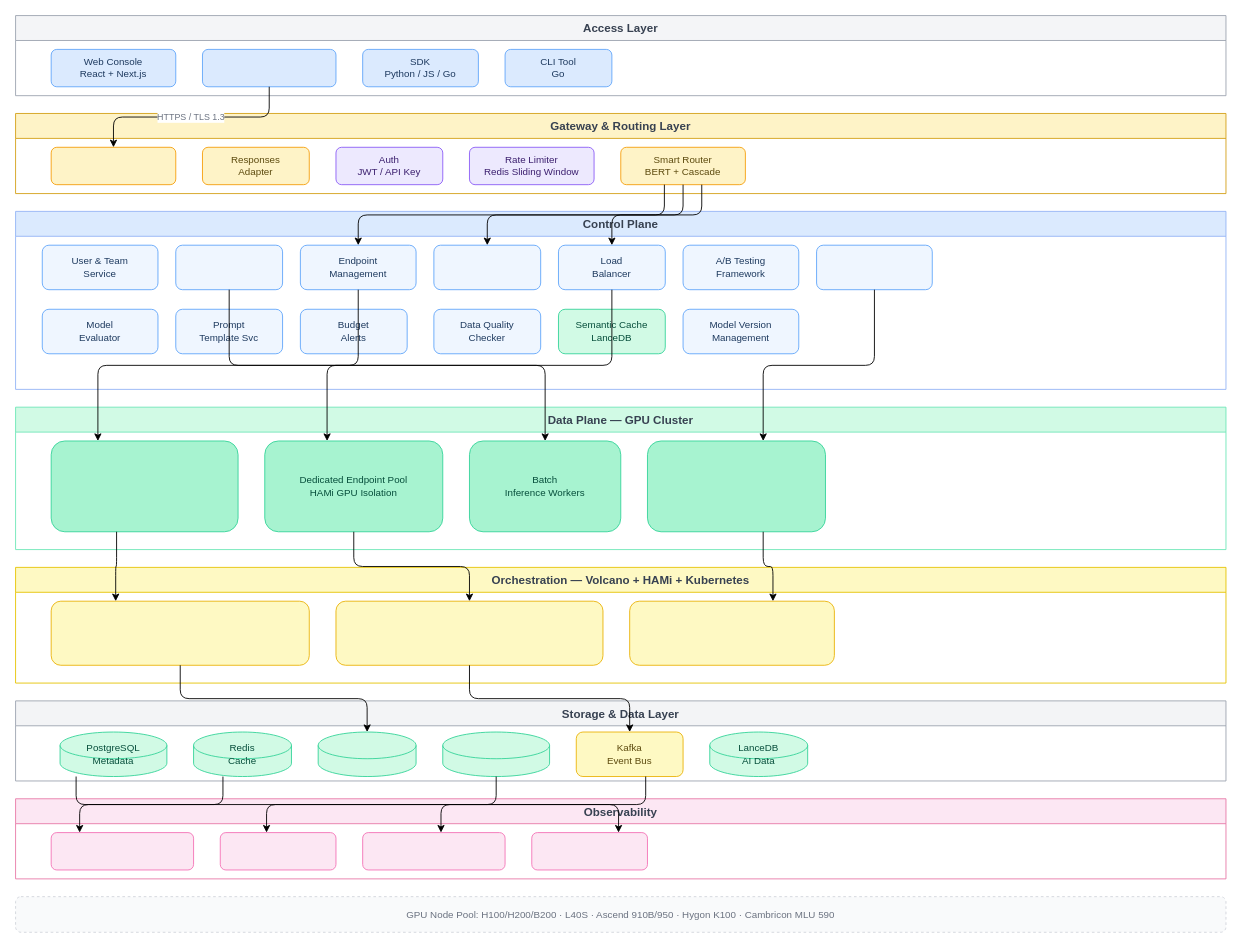
Some shapes in this 1242 by 948 pixel diagram are drawn without their labels. The shapes that lost their labels are listed below. From the top down, each one's centre as x and y in pixels, then its label:
(x=269, y=68): Responses API + Chat Completions
(x=113, y=165): API Gateway Kong / Envoy
(x=229, y=267): Billing Service
(x=487, y=267): Model Registry
(x=874, y=267): Fine-tuning Scheduler
(x=144, y=486): MultiEngineRouter vLLM · SGLang · Custom · Mock
(x=736, y=486): Fine-tuning Cluster Megatron-LM + SGLang
(x=179, y=632): Volcano Scheduler Gang · Queue · Preemption · Capacity
(x=469, y=632): HAMi Device Plugin GPU Memory · Cores · Multi-vendor
(x=731, y=632): K8s Native HPA · Deployment · Service · PVC
(x=366, y=754): S3 Objects
(x=496, y=754): ClickHouse Analytics
(x=122, y=851): Prometheus + VictoriaMetrics
(x=277, y=851): Grafana Dashboard
(x=433, y=851): OpenTelemetry + Jaeger Tracing
(x=589, y=851): Loki + Log Aggregation
